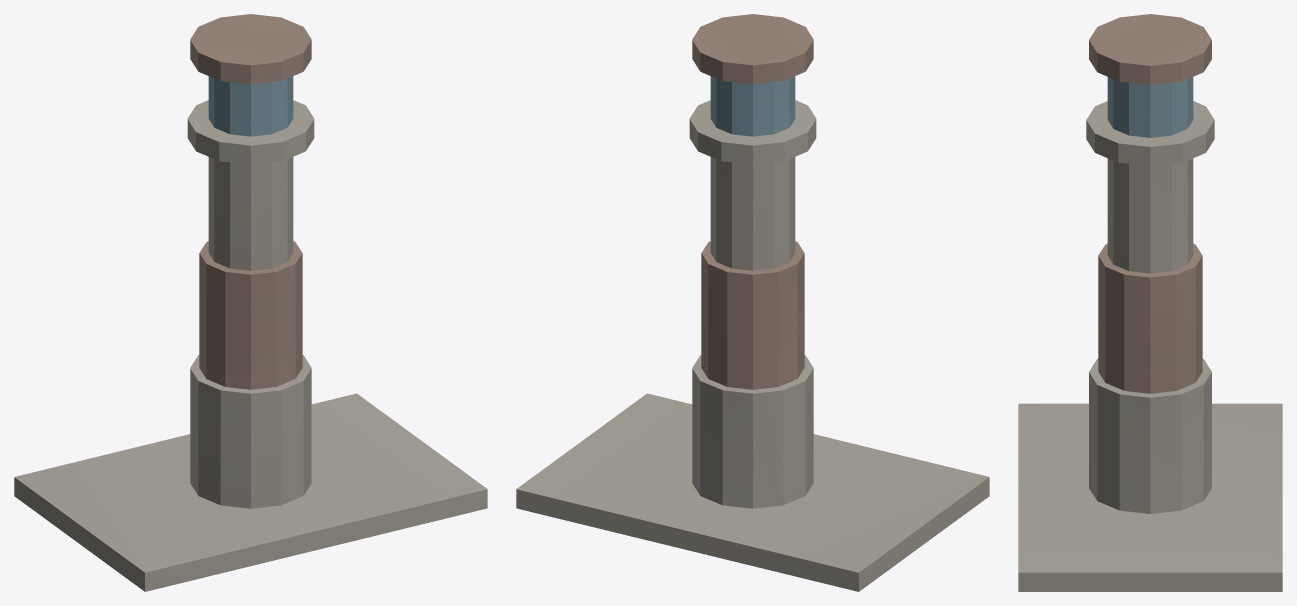
The model's file is lighthouse-02.glb.
3 renders of one model, left to right at view 1: azimuth 30°, elevation 25°; view 2: azimuth 150°, elevation 25°; view 3: azimuth 270°, elevation 25°, orthographic.
Visible parts, largest first — view 1: world; view 2: world; view 3: world.
Boxes of the visible parts, x1,y1,x2,y2 form: world: (14, 14, 487, 591); world: (516, 14, 989, 591); world: (1018, 14, 1282, 591).
Size of the model in its own units: 1.5 by 1.93 by 0.99.
